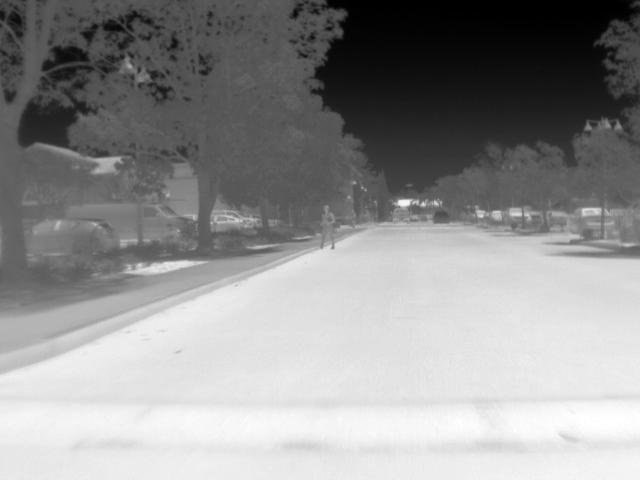car: (27, 218, 112, 254), (69, 204, 135, 240), (142, 205, 195, 240), (567, 206, 603, 236), (209, 213, 244, 230), (547, 210, 570, 228), (602, 207, 616, 236), (392, 204, 411, 224), (504, 206, 523, 224), (432, 209, 452, 225), (491, 208, 506, 222)
person: (316, 204, 337, 248)
